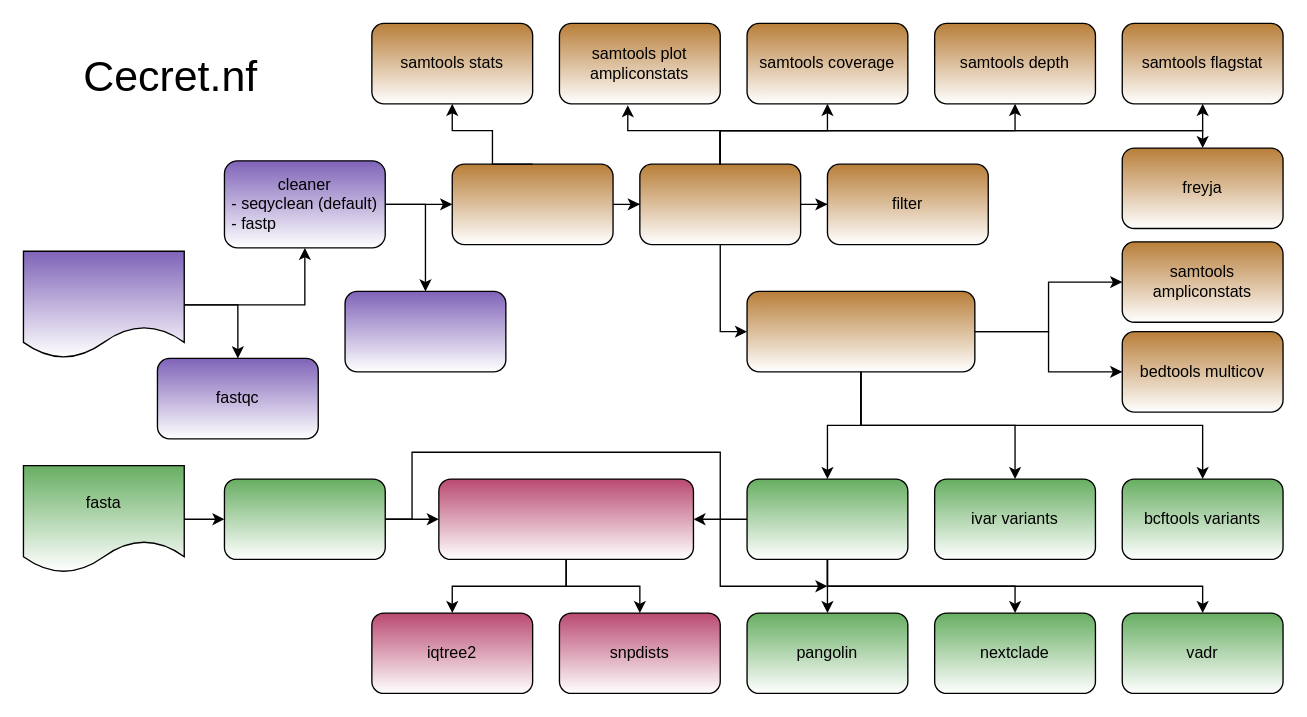
Some shapes in this 1307 by 717 pixel diagram are drawn without their labels. The shapes that lost their labels are listed below. From the top down, each one's box as (x1, y1, x2, y2) in pixels, then its label:
(451, 163, 613, 245): alignment - bwa (default) - minimap2
(639, 163, 801, 245): sort
(22, 250, 184, 358): fastq
(344, 290, 506, 372): kraken2
(746, 290, 975, 372): primer trimming - ivar (default) - samtools ampliconclip
(223, 478, 385, 559): prepare fastas
(438, 478, 693, 559): multiple sequence alignment - mafft (default) - nextalign
(746, 478, 908, 559): ivar consensus
